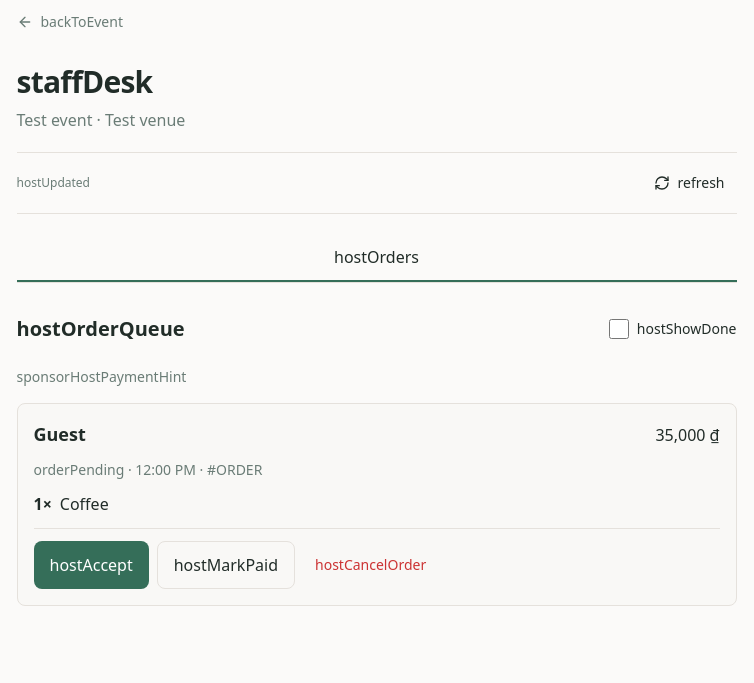
arrival staff permissions in the UI › shows the kitchen queue to order staff and retains a stale-order conflict after refreshing
Click the button "hostAccept" at (91, 565), box left=34, top=541, right=149, bottom=589
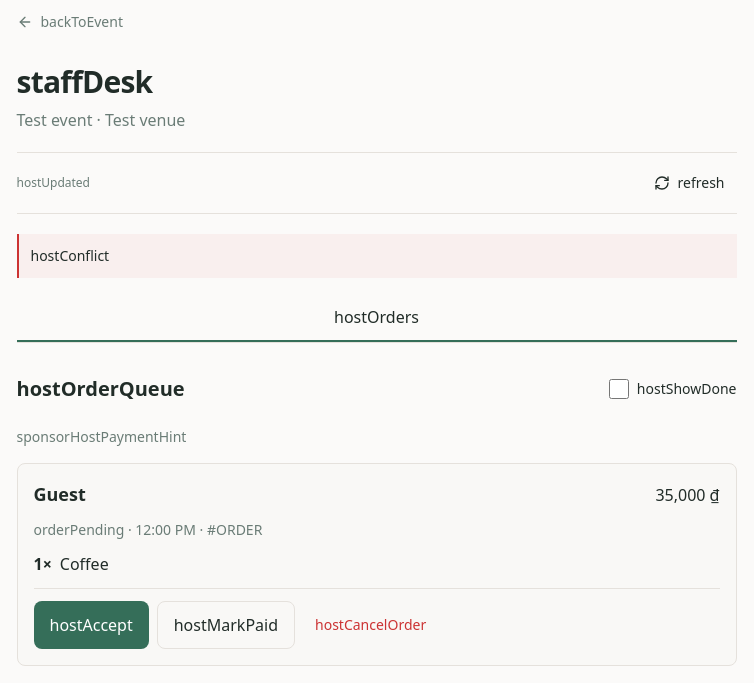
Expected: the message "hostConflict" is shown, left=16, top=234, right=736, bottom=278
